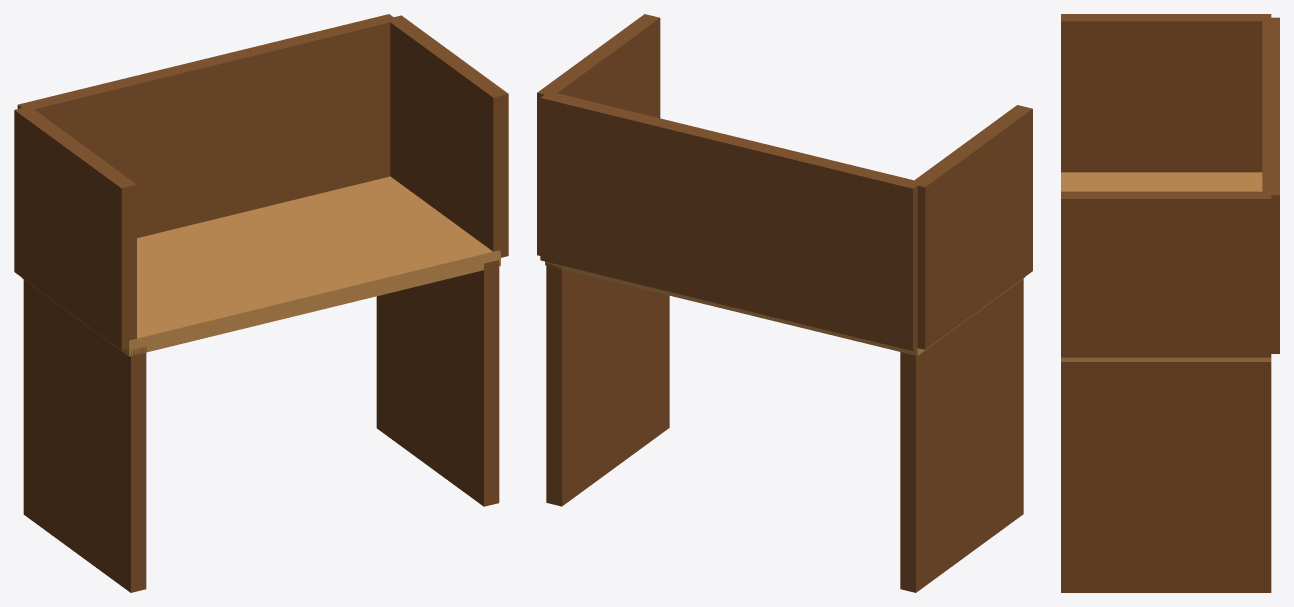
The model's file is study_carrel.fbx.
The picture shows the model from 3 angles, left to right: view 1: azimuth 30°, elevation 25°; view 2: azimuth 150°, elevation 25°; view 3: azimuth 270°, elevation 25°; orthographic projection. The views are drawn at different scales.
Visible parts, largest first — view 1: study_carrel; view 2: study_carrel; view 3: study_carrel.
Boxes of the visible parts, x1,y1,x2,y2 form: study_carrel: [14, 14, 508, 592]; study_carrel: [537, 14, 1032, 592]; study_carrel: [1061, 14, 1279, 592].
Bounding box in the file's own units: 1.25 × 1.25 × 0.625.
